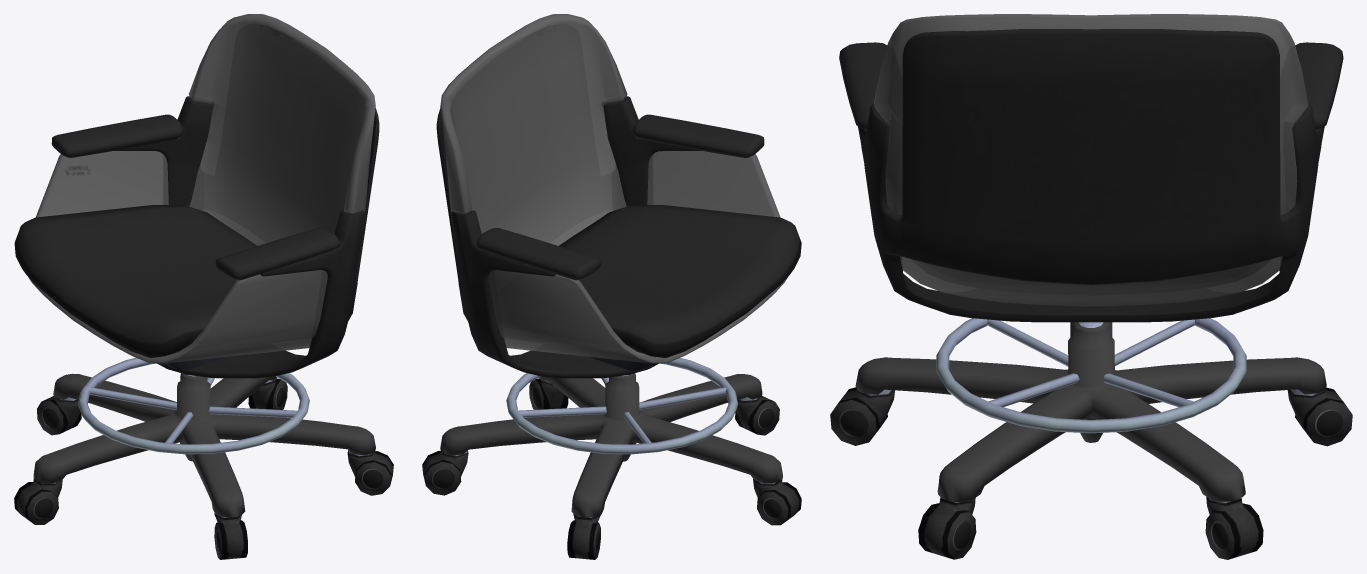
Rendered from aeroshell_glide_chair_b.glb.
3 views of the same model, side by side, from view 1: azimuth 30°, elevation 25°; view 2: azimuth 150°, elevation 25°; view 3: azimuth 270°, elevation 25° (orthographic). The views are drawn at different scales.
Visible parts, largest first — view 1: Chair_Base, Legs.001; view 2: Chair_Base, Legs.001; view 3: Chair_Base, Legs.001.
Boxes of the visible parts, <box> form: Chair_Base: <box>14,14,379,378</box>; Legs.001: <box>14,358,393,559</box>; Chair_Base: <box>436,14,801,378</box>; Legs.001: <box>422,358,801,559</box>; Chair_Base: <box>839,14,1343,322</box>; Legs.001: <box>830,318,1352,559</box>.
Size of the model in its own units: 0.7945 by 0.954 by 0.8349.
Materials: 1 (1 with a texture image).
